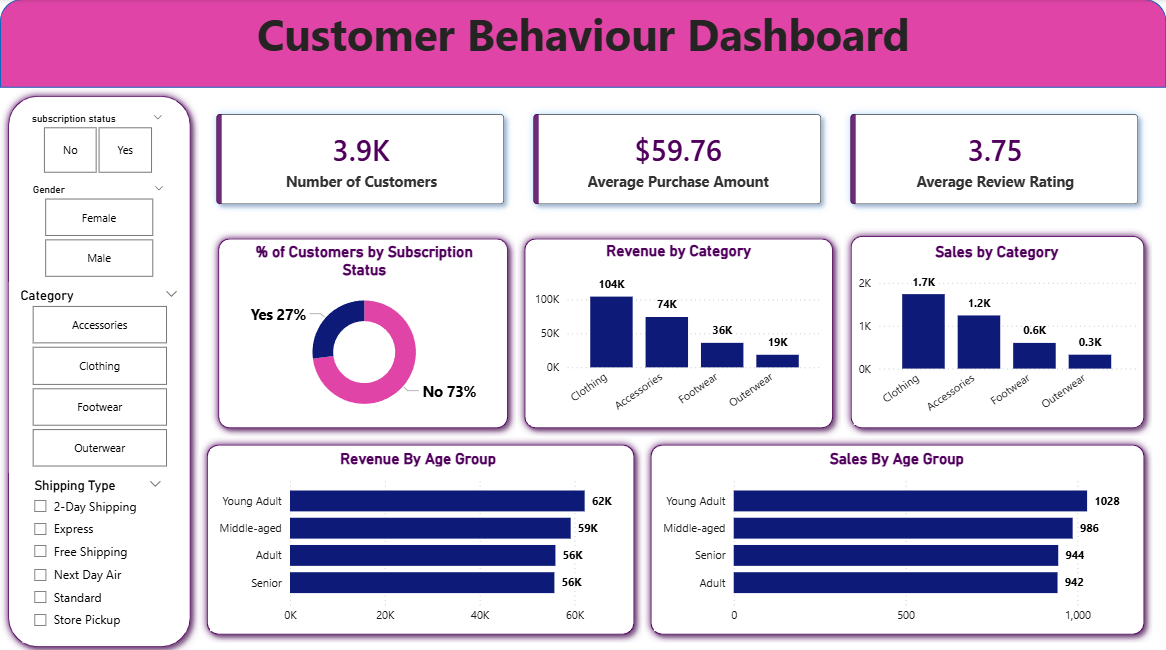

What the dashboard file says about the page in this screenshot:
{"tool":"powerbi","page":{"name":"Page 1","canvas":[1280,720],"ordinal":0},"visuals":[{"type":"cardVisual","fields":{"Data":["public customer.Number of Customers","public customer.Average Purchase Amount","public customer.Average Review Rating"]},"box":[208.6,97.4,1071.7,157.8],"z":0},{"type":"shape","box":[0,0,1280.3,97.4],"z":1000},{"type":"textbox","box":[277.2,0,771.2,97.4],"z":2000},{"type":"shape","box":[230.5,253.9,336.2,226.4],"z":3000},{"type":"donutChart","title":"% of Customers by Subscription Status","fields":{"Category":["public customer.subscription_status"],"Y":["CountNonNull(public customer.customer_id)"]},"box":[248.4,267.6,303.3,199],"z":4000},{"type":"shape","box":[566.7,253.9,356.8,226.4],"z":5000},{"type":"shape","box":[924.9,251.1,340.3,229.2],"z":6000},{"type":"clusteredColumnChart","title":"Revenue by Category","fields":{"Category":["public customer.category"],"Y":["Sum(public customer.purchase_amount)"]},"box":[581.8,266.2,326.6,200.3],"z":7000},{"type":"clusteredColumnChart","title":"Sales by Category","fields":{"Category":["public customer.category"],"Y":["CountNonNull(public customer.customer_id)"]},"box":[937.2,267.6,314.2,200.3],"z":8000},{"type":"shape","box":[0,97.4,218.2,623],"z":9000},{"type":"slicer","fields":{"Values":["public customer.subscription_status"]},"box":[22,119.4,168.8,78.2],"z":10000},{"type":"slicer","fields":{"Values":["public customer.gender"]},"box":[23.3,197.6,168.8,113.9],"z":11000},{"type":"slicer","fields":{"Values":["public customer.category"]},"box":[9.6,311.5,197.6,208.6],"z":12000},{"type":"slicer","fields":{"Values":["public customer.shipping_type"]},"box":[24.7,520.1,164.7,186.6],"z":13000},{"type":"shape","box":[218.2,480.3,487.1,226.4],"z":14000},{"type":"clusteredBarChart","title":"Revenue By Age Group","fields":{"Category":["public customer.age_group"],"Y":["Sum(public customer.purchase_amount)"]},"box":[230.5,494,456.9,200.3],"z":15000},{"type":"shape","box":[705.3,480.3,559.9,226.4],"z":15001},{"type":"clusteredBarChart","title":"Sales By Age Group","fields":{"Category":["public customer.age_group"],"Y":["CountNonNull(public customer.customer_id)"]},"box":[717.7,494,533.8,200.3],"z":15002}]}

Visuals, with their boxes in screenshot pixels (x1, y1, x2, y2), scaled from the page's 1280x720 canvas onto the 1166x650 screenshot:
cardVisual - public customer.Number of Customers x public customer.Average Purchase Amount: 190, 88, 1165, 230
shape: 0, 0, 1165, 88
textbox: 253, 0, 955, 88
shape: 210, 229, 516, 434
"% of Customers by Subscription Status" donutChart: 226, 242, 503, 421
shape: 516, 229, 841, 434
shape: 843, 227, 1153, 434
"Revenue by Category" clusteredColumnChart: 530, 240, 827, 421
"Sales by Category" clusteredColumnChart: 854, 242, 1140, 422
shape: 0, 88, 199, 649
slicer - public customer.subscription_status: 20, 108, 174, 178
slicer - public customer.gender: 21, 178, 175, 281
slicer - public customer.category: 9, 281, 189, 470
slicer - public customer.shipping_type: 23, 470, 173, 638
shape: 199, 434, 642, 638
"Revenue By Age Group" clusteredBarChart: 210, 446, 626, 627
shape: 642, 434, 1153, 638
"Sales By Age Group" clusteredBarChart: 654, 446, 1140, 627
